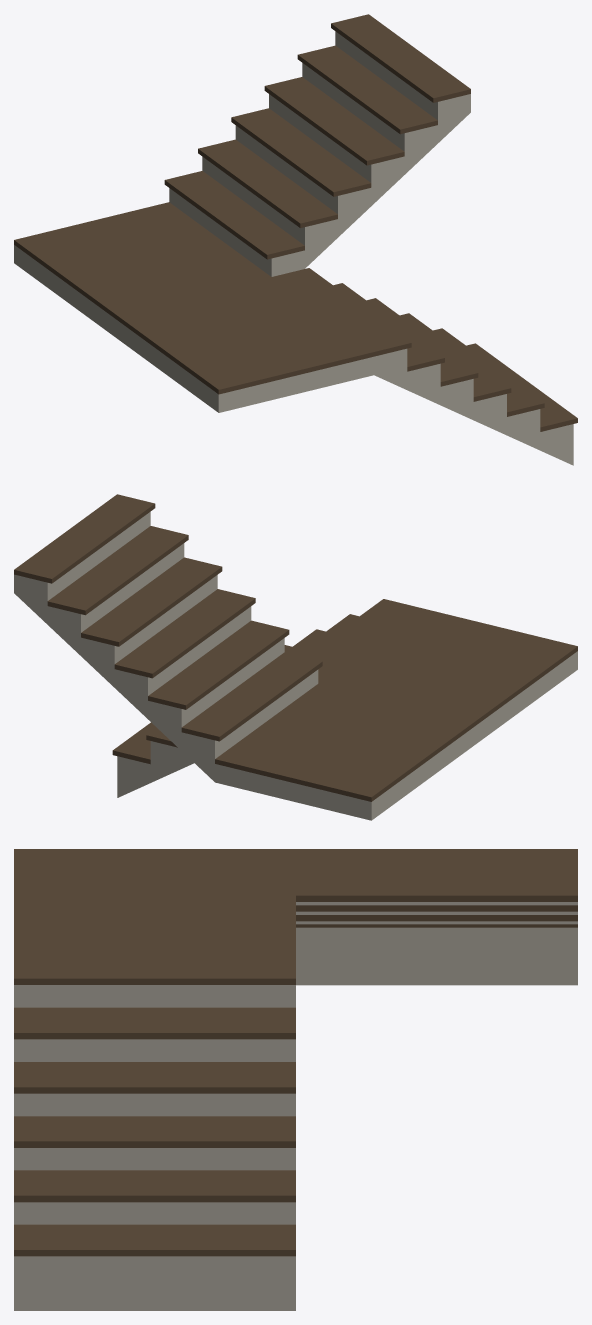
Rendered from SM_stairsU_01.glb.
3 renders of one model, top to bottom at view 1: azimuth 30°, elevation 25°; view 2: azimuth 150°, elevation 25°; view 3: azimuth 270°, elevation 25°, orthographic. The views are drawn at different scales.
Visible parts, largest first — view 1: SM_stairsU_01; view 2: SM_stairsU_01; view 3: SM_stairsU_01.
Boxes of the visible parts, x1=… form: SM_stairsU_01: x1=14, y1=14, x2=577, y2=465; SM_stairsU_01: x1=14, y1=494, x2=577, y2=820; SM_stairsU_01: x1=14, y1=849, x2=577, y2=1310.
Size of the model in its own units: 4.05 by 3.25 by 4.
1 material, 1 textured.
